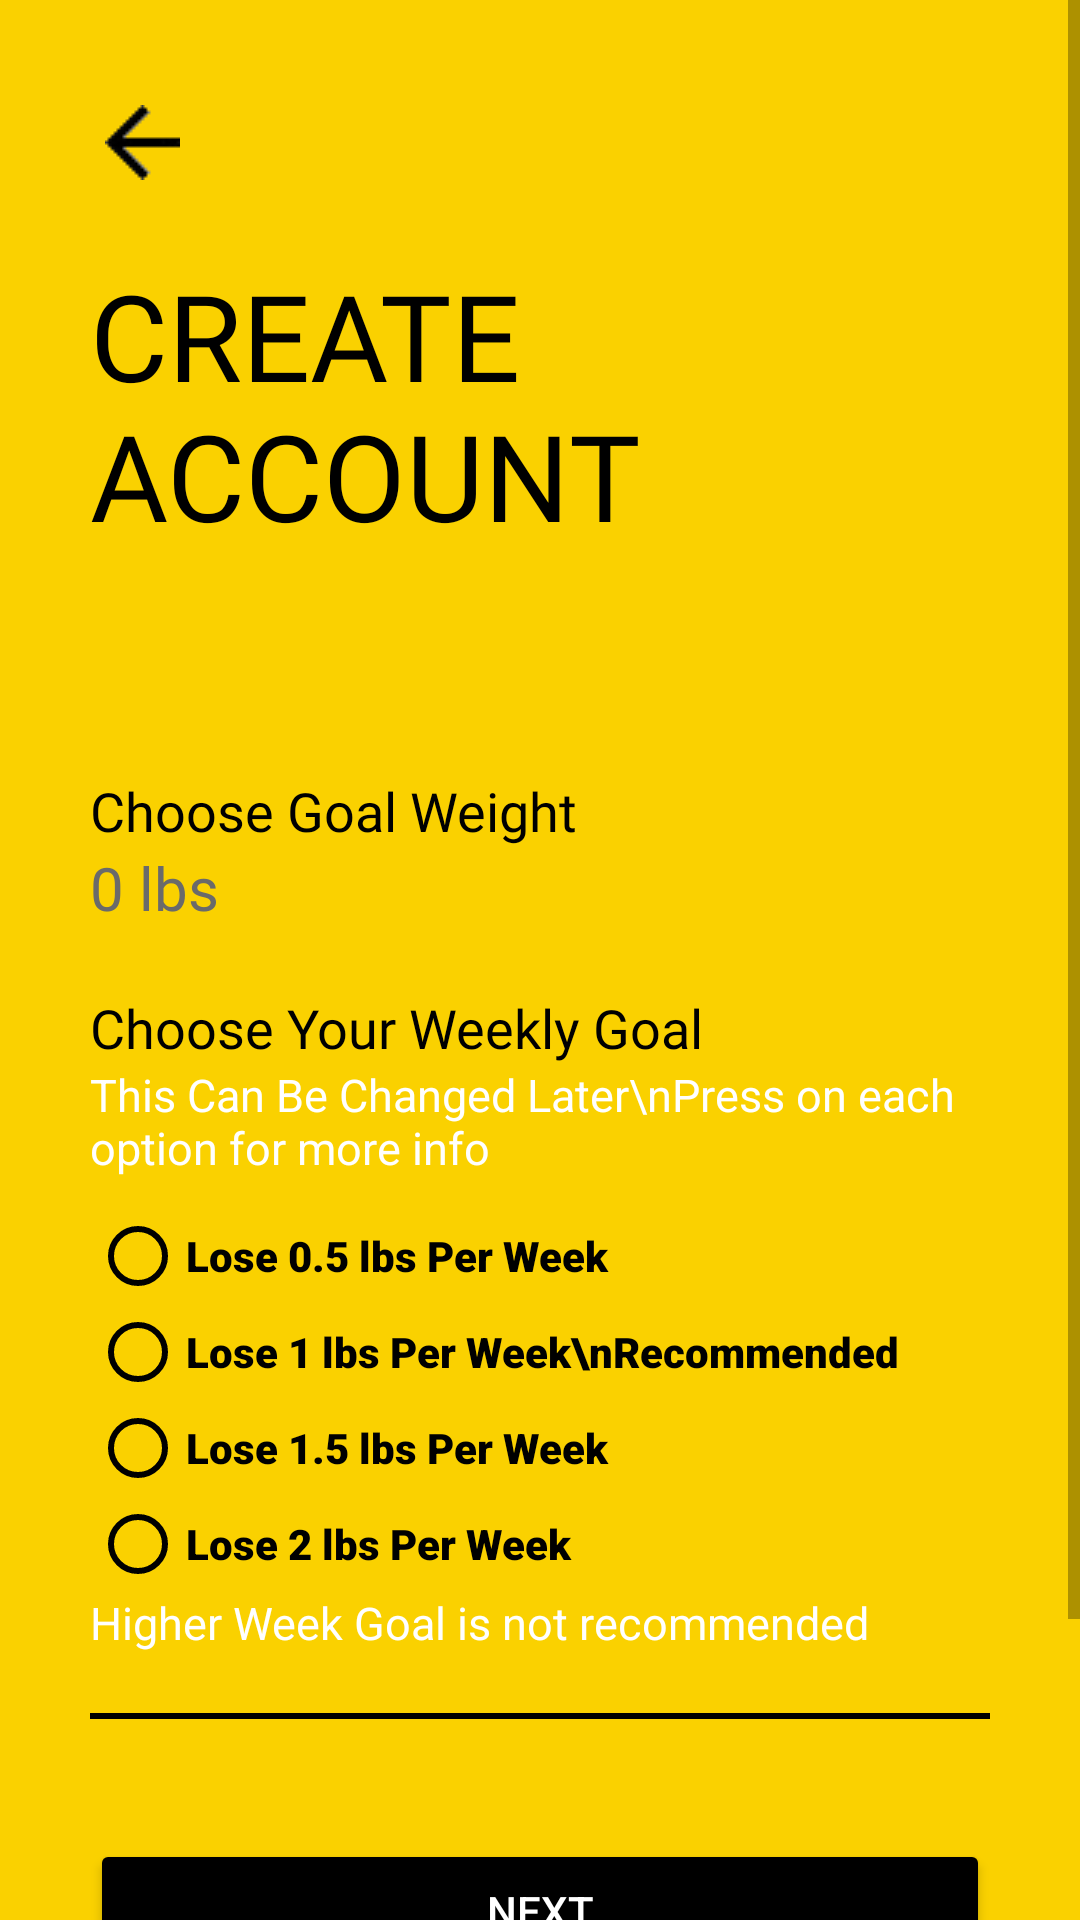

Locate icon controls on the screen. Image size 1080 x 1920, boxes as {"x1": x1, "y1": y1, "x2": x2, "y2": y2}.
general back: {"x1": 105, "y1": 105, "x2": 180, "y2": 180}
